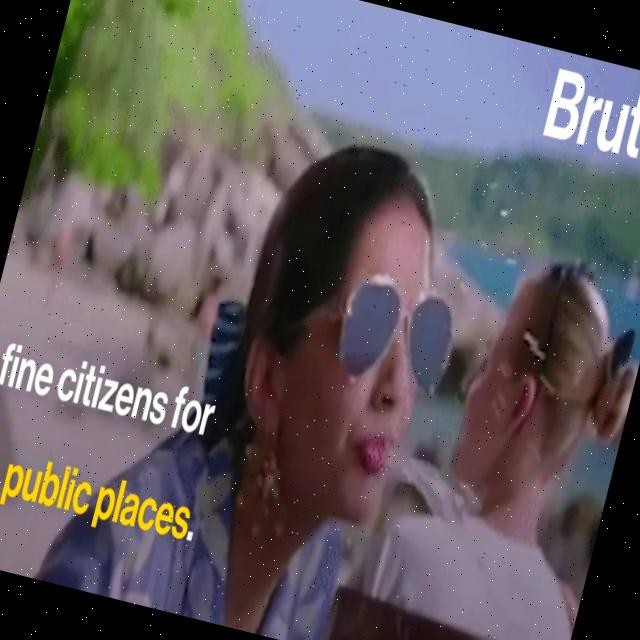spit: (280, 304, 551, 640)
